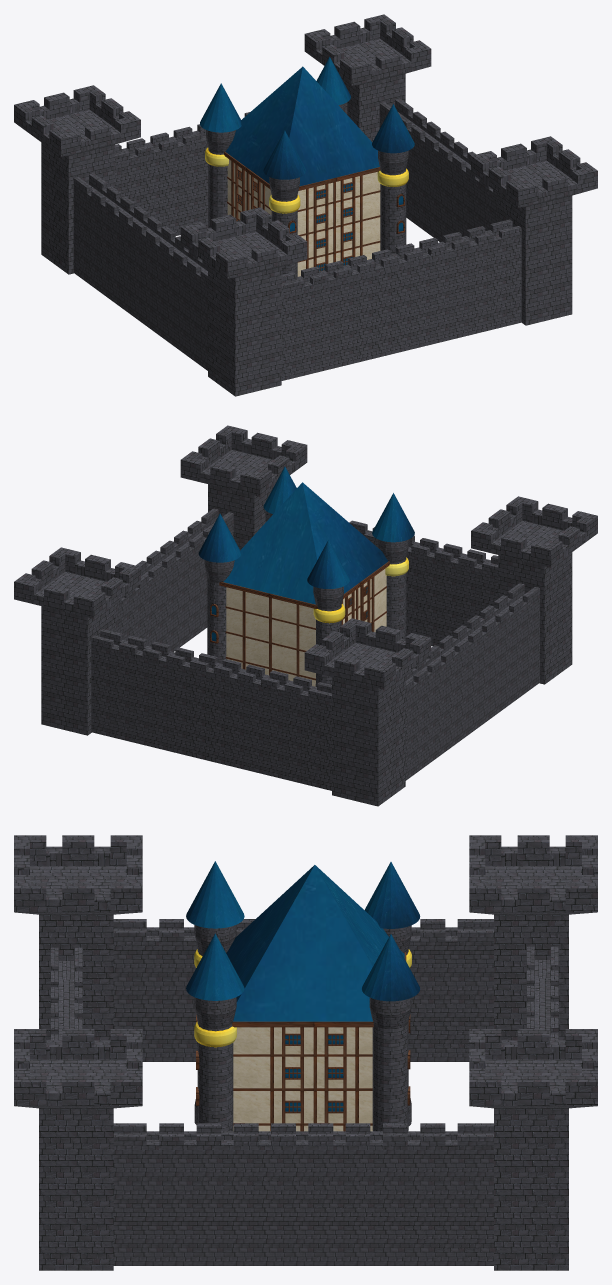
File: muralha_part_III.fbx
The picture shows the model from 3 angles, top to bottom: view 1: azimuth 30°, elevation 25°; view 2: azimuth 150°, elevation 25°; view 3: azimuth 270°, elevation 25°; orthographic projection. The views are drawn at different scales.
Visible parts, largest first — view 1: Torre quadrada.005, Cone.013; view 2: Torre quadrada.005, Cone.013; view 3: Torre quadrada.005, Cone.013.
Boxes of the visible parts, x1,y1,x2,y2 form: Torre quadrada.005: [14, 14, 597, 396]; Cone.013: [200, 57, 414, 277]; Torre quadrada.005: [14, 425, 597, 806]; Cone.013: [198, 466, 414, 686]; Torre quadrada.005: [14, 835, 597, 1270]; Cone.013: [186, 861, 420, 1131].
Bounding box in the file's own units: 6102 × 3404 × 6100.
398 materials, 398 textured.
